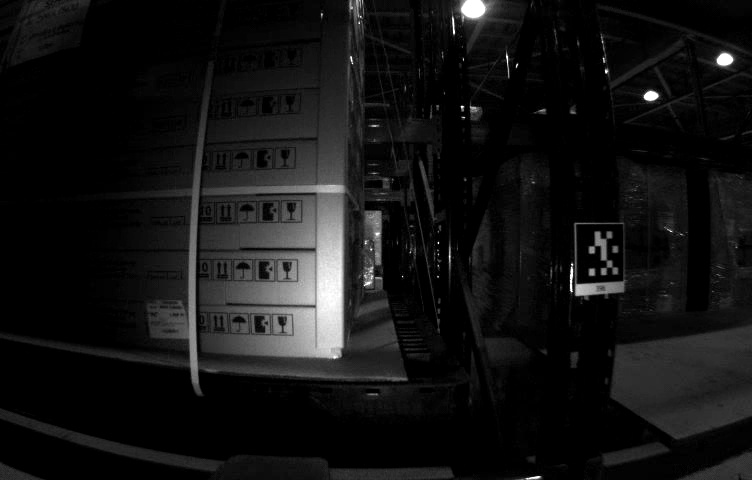True Barcode: (146, 300, 190, 340)
